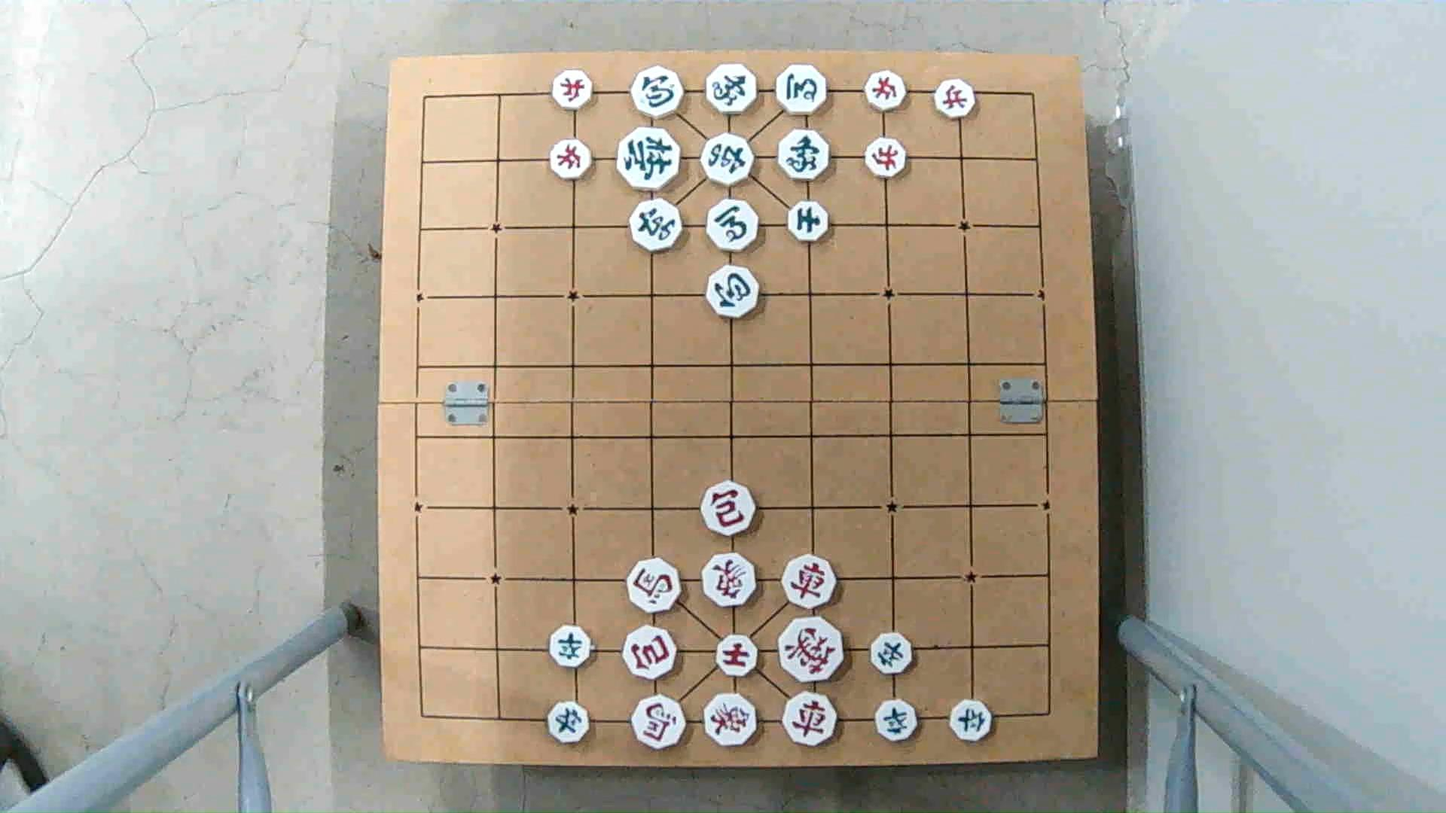cha_green: (628, 198, 682, 256), (697, 135, 753, 184)
cha_red: (782, 692, 840, 748), (779, 554, 837, 610)
jol_green: (545, 698, 594, 744), (868, 630, 914, 678), (873, 699, 920, 742), (947, 698, 993, 741), (547, 626, 591, 666)
jol_red: (861, 70, 908, 114), (550, 68, 595, 110), (862, 138, 906, 176), (549, 141, 592, 179), (933, 80, 977, 117)
ma_green: (703, 201, 758, 251), (772, 68, 828, 114)
ma_red: (626, 562, 682, 613), (632, 699, 687, 748)
po_green: (628, 63, 686, 117), (706, 266, 761, 315)
po_red: (622, 632, 679, 680), (699, 486, 755, 534)
sa_green: (789, 199, 831, 242)
sa_red: (713, 634, 758, 675)
sang_green: (702, 66, 757, 115), (778, 132, 832, 179)
sang_red: (703, 694, 761, 746), (703, 557, 760, 607)
wang_green: (614, 128, 682, 188)
wang_red: (776, 614, 848, 683)
